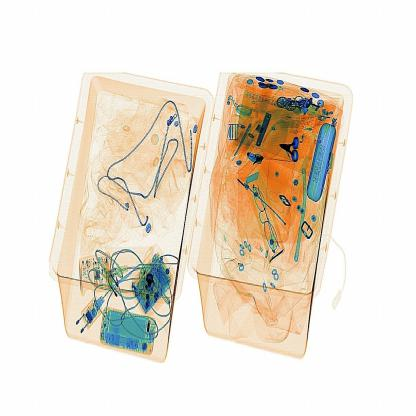gun: (276, 129, 308, 166)
